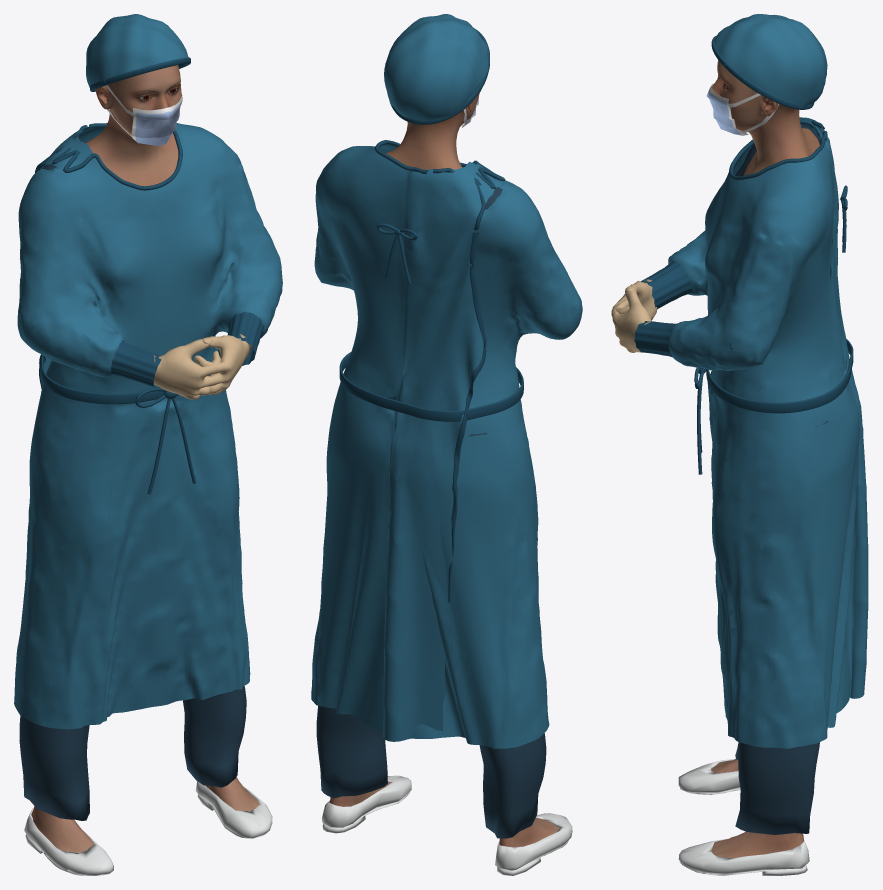
Rendered from paso-6.glb.
3 renders of one model, left to right at view 1: azimuth 30°, elevation 25°; view 2: azimuth 150°, elevation 25°; view 3: azimuth 270°, elevation 25°, orthographic.
Visible parts, largest first — view 1: gown, Human.toigo_wool_pants-static, Human-static, surgical-cap, Human.toigo_gloves_short-static, Human.toigo_flats-static, Human.joepal_medical_mouth_protection-static, cuff-R, neck-binding, tie-waist-belt, cuff-L, cap-elastic; view 2: gown, Human.toigo_wool_pants-static, surgical-cap, Human-static, Human.toigo_flats-static, tie-waist-belt, wrap-edge, neck-binding, cap-elastic; view 3: gown, surgical-cap, Human-static, Human.toigo_wool_pants-static, Human.toigo_flats-static, Human.toigo_gloves_short-static, tie-waist-belt, cuff-R, cuff-L, Human.joepal_medical_mouth_protection-static, neck-binding, cap-elastic.
Part boxes in pixels (<box>): gown: <box>14,123,282,729</box>; Human.toigo_wool_pants-static: <box>19,685,246,820</box>; Human-static: <box>31,65,259,852</box>; surgical-cap: <box>86,14,188,87</box>; Human.toigo_gloves_short-static: <box>153,334,250,399</box>; Human.toigo_flats-static: <box>24,781,272,875</box>; Human.joepal_medical_mouth_protection-static: <box>106,85,182,145</box>; cuff-R: <box>110,340,161,387</box>; neck-binding: <box>35,123,182,190</box>; tie-waist-belt: <box>41,349,220,404</box>; cuff-L: <box>227,311,264,365</box>; cap-elastic: <box>90,57,190,91</box>; gown: <box>311,144,582,748</box>; Human.toigo_wool_pants-static: <box>316,706,546,838</box>; surgical-cap: <box>384,14,488,121</box>; Human-static: <box>329,92,559,847</box>; Human.toigo_flats-static: <box>321,775,572,875</box>; tie-waist-belt: <box>339,352,523,421</box>; wrap-edge: <box>448,232,486,602</box>; neck-binding: <box>374,140,505,230</box>; cap-elastic: <box>390,29,489,124</box>; gown: <box>668,117,868,748</box>; surgical-cap: <box>714,14,827,107</box>; Human-static: <box>711,60,819,858</box>; Human.toigo_wool_pants-static: <box>735,742,819,834</box>; Human.toigo_flats-static: <box>678,759,809,875</box>; Human.toigo_gloves_short-static: <box>611,279,657,352</box>; tie-waist-belt: <box>706,339,853,413</box>; cuff-R: <box>641,260,692,308</box>; cuff-L: <box>634,321,677,357</box>; Human.joepal_medical_mouth_protection-static: <box>706,83,779,135</box>; neck-binding: <box>729,119,830,180</box>; cap-elastic: <box>711,35,814,109</box>.
Bounding box in the file's own units: 0.5663 × 1.7 × 0.49.
16 materials, 8 textured.
